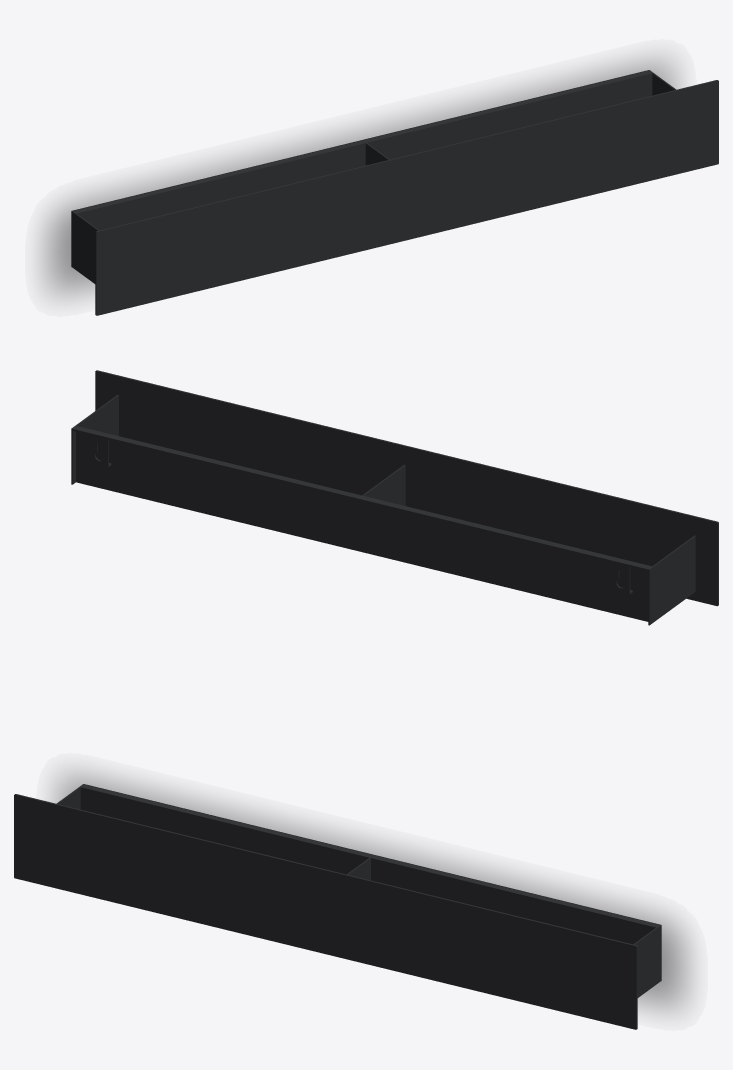
Rendered from skyline-mono.e2c7b1070e.ar.glb.
3 renders of one model, top to bottom at view 1: azimuth 30°, elevation 25°; view 2: azimuth 150°, elevation 25°; view 3: azimuth 330°, elevation 25°, orthographic.
Visible parts, largest first — view 1: NAUO1, object 2; view 2: NAUO1; view 3: NAUO1, object 2.
Part boxes in pixels (<box>): NAUO1: <box>71,70,718,315</box>; object 2: <box>42,59,678,296</box>; NAUO1: <box>71,370,718,625</box>; NAUO1: <box>14,784,661,1029</box>; object 2: <box>54,773,690,1010</box>.
Size of the model in its own units: 0.78 by 0.17 by 0.092.
2 materials, 1 textured.
